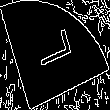L_W: (32, 32, 78, 78)
